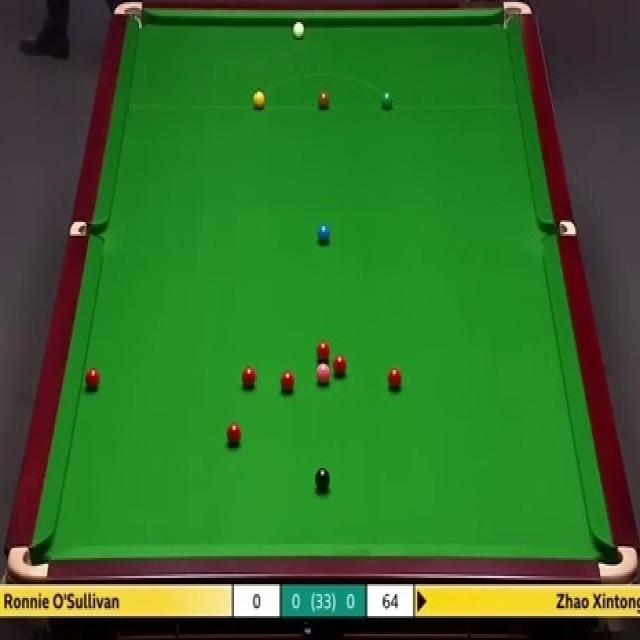black-ball: (315, 464, 330, 491)
blue-ball: (316, 225, 331, 242)
brown-ball: (317, 92, 330, 106)
green-ball: (380, 88, 395, 110)
pink-ball: (316, 360, 329, 384)
red-ball: (281, 369, 296, 398), (226, 421, 242, 446), (386, 367, 402, 390), (240, 367, 257, 388), (84, 368, 100, 388), (316, 340, 331, 361), (333, 354, 346, 376)
white-ball: (292, 21, 304, 41)
yellow-ball: (253, 90, 265, 110)
